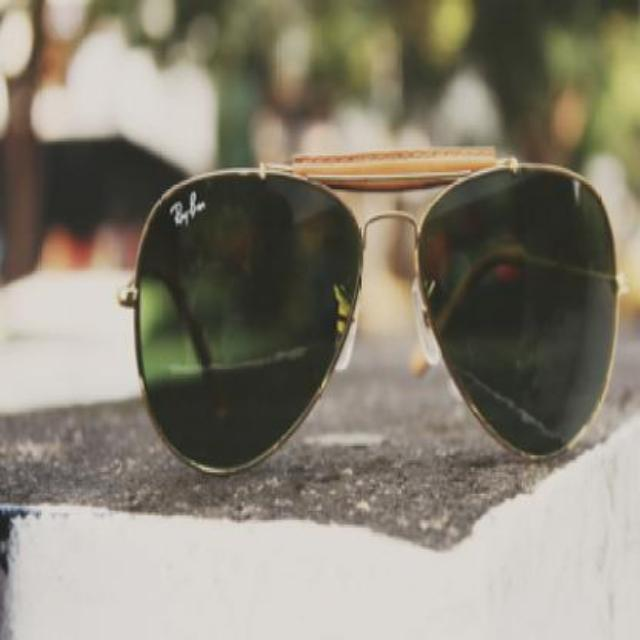sunglasses: (118, 147, 632, 476)
